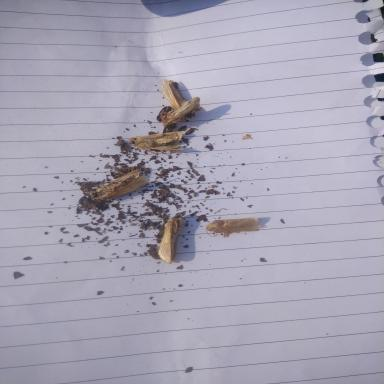abw: (85, 166, 152, 205), (155, 76, 203, 119), (156, 212, 184, 264), (204, 215, 264, 238), (126, 132, 187, 152)
